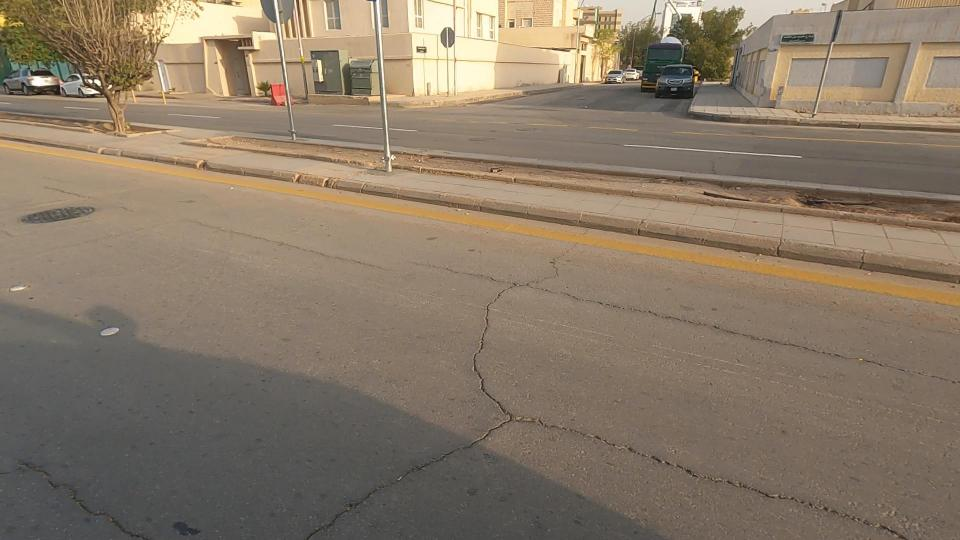POTHOLES: (396, 355, 856, 535), (230, 392, 636, 538), (443, 196, 550, 478)
